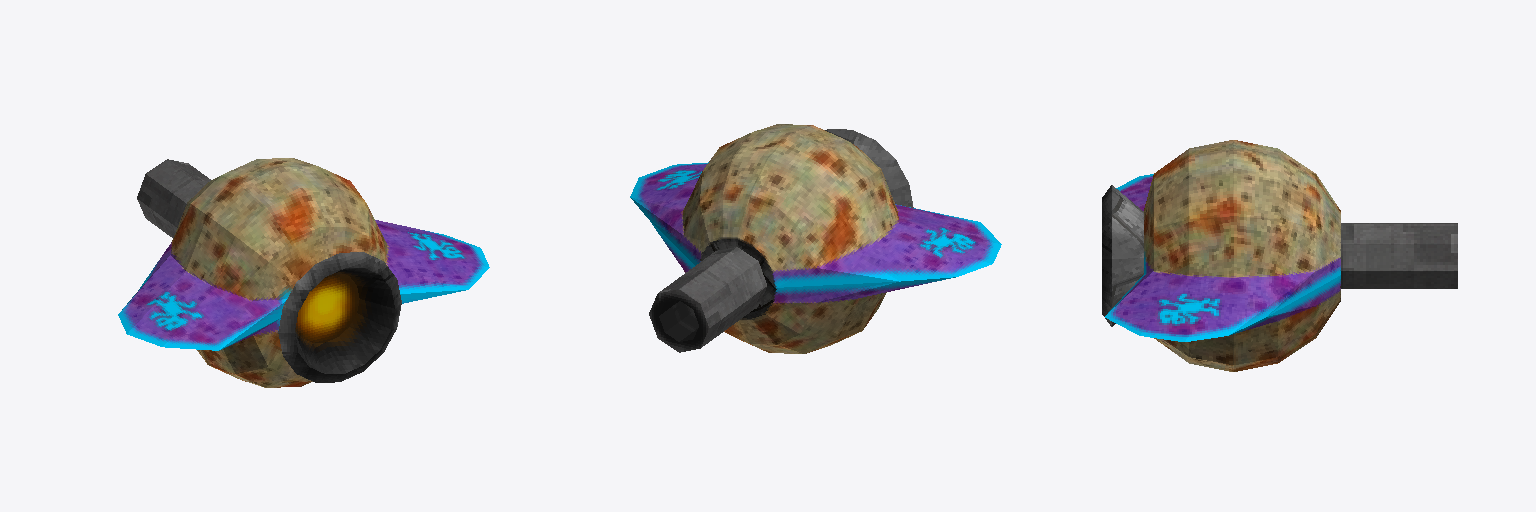
3 renders of one model, left to right at view 1: azimuth 30°, elevation 25°; view 2: azimuth 150°, elevation 25°; view 3: azimuth 270°, elevation 25°, orthographic.
Parts seen in each view (by area): view 1: bird; view 2: bird; view 3: bird.
Boxes of the visible parts, x1=… form: bird: x1=118, y1=158, x2=489, y2=387; bird: x1=630, y1=124, x2=1001, y2=353; bird: x1=1102, y1=140, x2=1457, y2=371.
Bounding box in the file's own units: 3.51 × 2 × 3.05.
Materials: 1 (1 with a texture image).